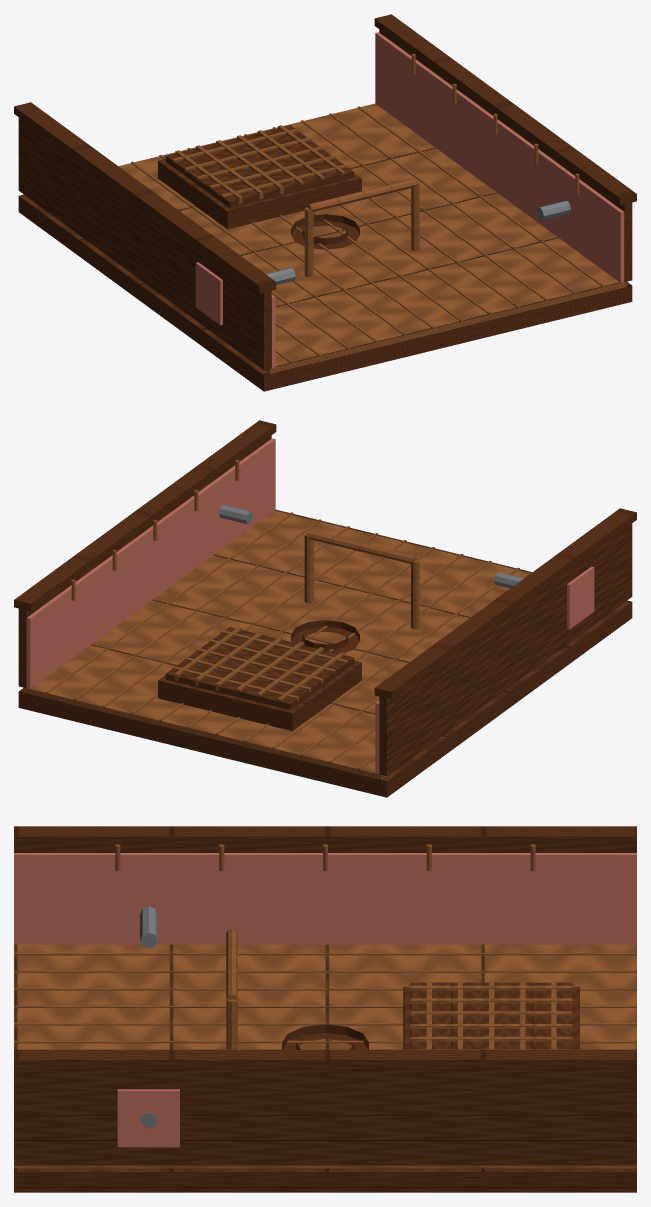
File: pirate-port-and-tall-ships-brig-deck-section-74ec52d1__30147.glb
3 views of the same model, one above another, from view 1: azimuth 30°, elevation 25°; view 2: azimuth 150°, elevation 25°; view 3: azimuth 270°, elevation 25° (orthographic). The views are drawn at different scales.
Parts seen in each view (by area): view 1: brig-deck-section, hatch/oak, hatch/deck; view 2: brig-deck-section, hatch/oak, hatch/deck; view 3: brig-deck-section, hatch/oak, hatch/deck.
Boxes of the visible parts, bbox=[...] form: brig-deck-section: bbox=[14, 14, 636, 391]; hatch/oak: bbox=[165, 125, 354, 208]; hatch/deck: bbox=[172, 125, 347, 204]; brig-deck-section: bbox=[14, 420, 636, 797]; hatch/oak: bbox=[165, 627, 354, 709]; hatch/deck: bbox=[172, 627, 347, 701]; brig-deck-section: bbox=[14, 826, 636, 1192]; hatch/oak: bbox=[410, 982, 572, 1049]; hatch/deck: bbox=[410, 980, 572, 1049].
Size of the model in its own units: 5.33 by 1.44 by 6.
Materials: 4 (2 with a texture image).
